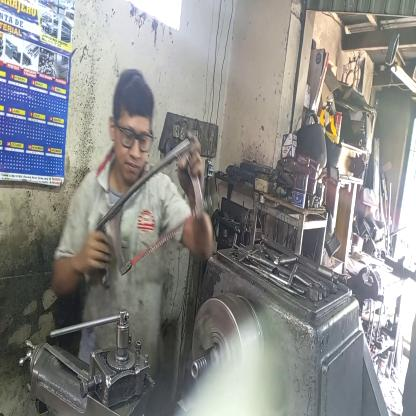lentes: (113, 117, 156, 160)
